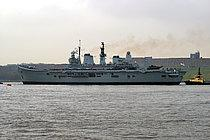MIL_Ship: (15, 38, 188, 87)
